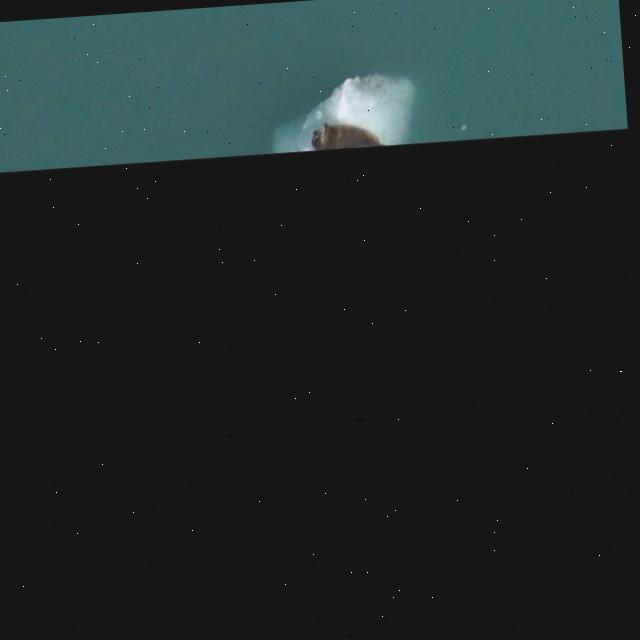seal: (310, 120, 383, 148)
